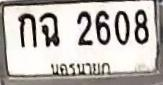0: (114, 10, 130, 44)
2: (76, 10, 92, 45)
6: (94, 9, 110, 44)
8: (133, 9, 148, 44)
A01: (17, 12, 36, 47)
A09: (39, 12, 59, 47)
NYK: (46, 58, 113, 77)
